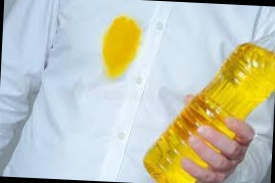mustard: (100, 13, 146, 83)
